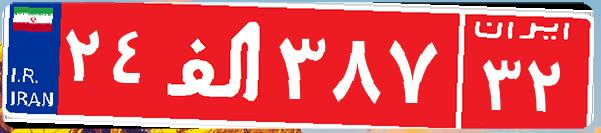2: (57, 26, 110, 107), (525, 38, 570, 115)
3: (273, 28, 330, 110), (475, 38, 525, 113)
4: (110, 28, 158, 105)
7: (385, 28, 445, 110)
8: (330, 28, 385, 110)
الف: (158, 15, 273, 115)
